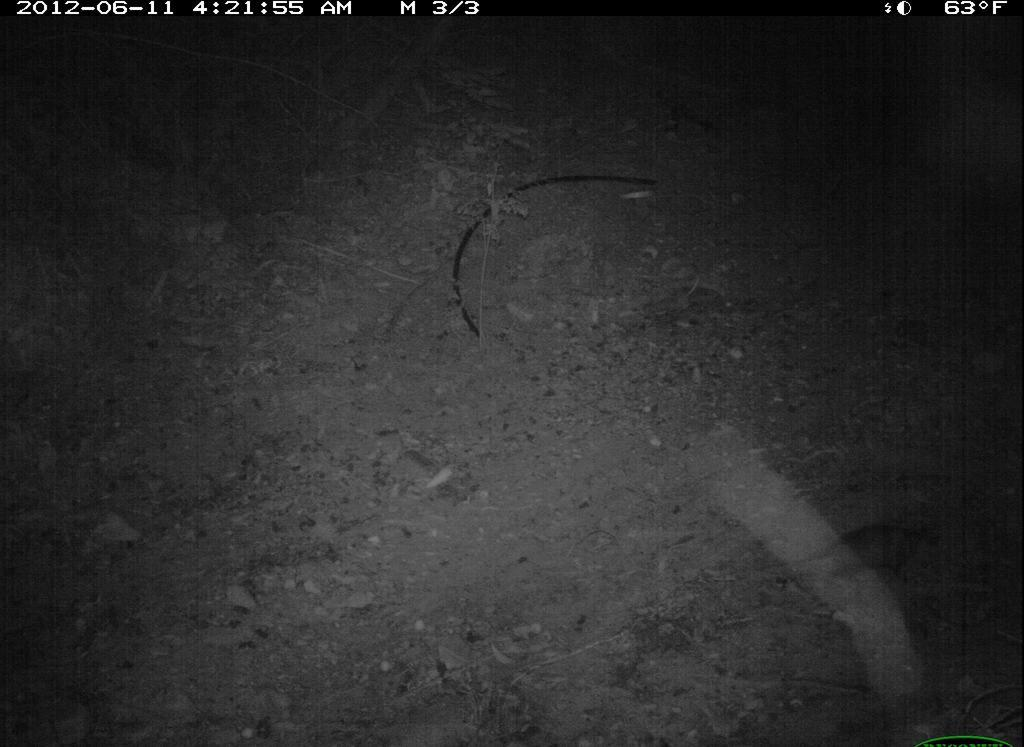opossum: (762, 516, 943, 589)
